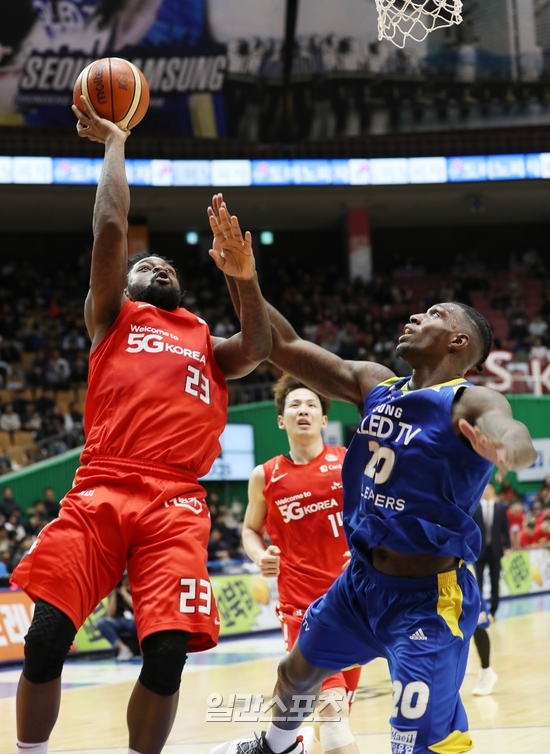defense: (279, 184, 550, 754)
shoot: (27, 41, 250, 754)
